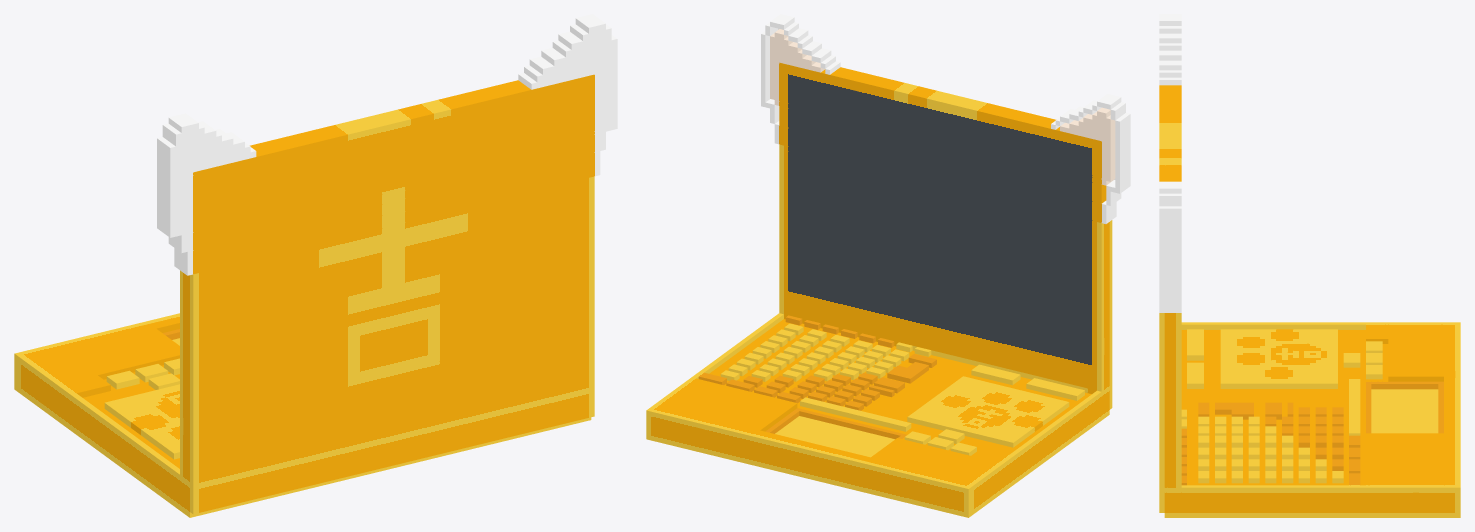
The model's file is 吉吉专用电脑.gltf.
The picture shows the model from 3 angles, left to right: view 1: azimuth 30°, elevation 25°; view 2: azimuth 150°, elevation 25°; view 3: azimuth 270°, elevation 25°; orthographic projection. The views are drawn at different scales.
Parts seen in each view (by area): view 1: Object; view 2: Object; view 3: Object.
Boxes of the visible parts, x1=… form: Object: x1=14, y1=14, x2=617, y2=517; Object: x1=646, y1=14, x2=1130, y2=517; Object: x1=1159, y1=14, x2=1460, y2=517.
Size of the model in its own units: 78 by 66 by 54.
Materials: 1 (1 with a texture image).
